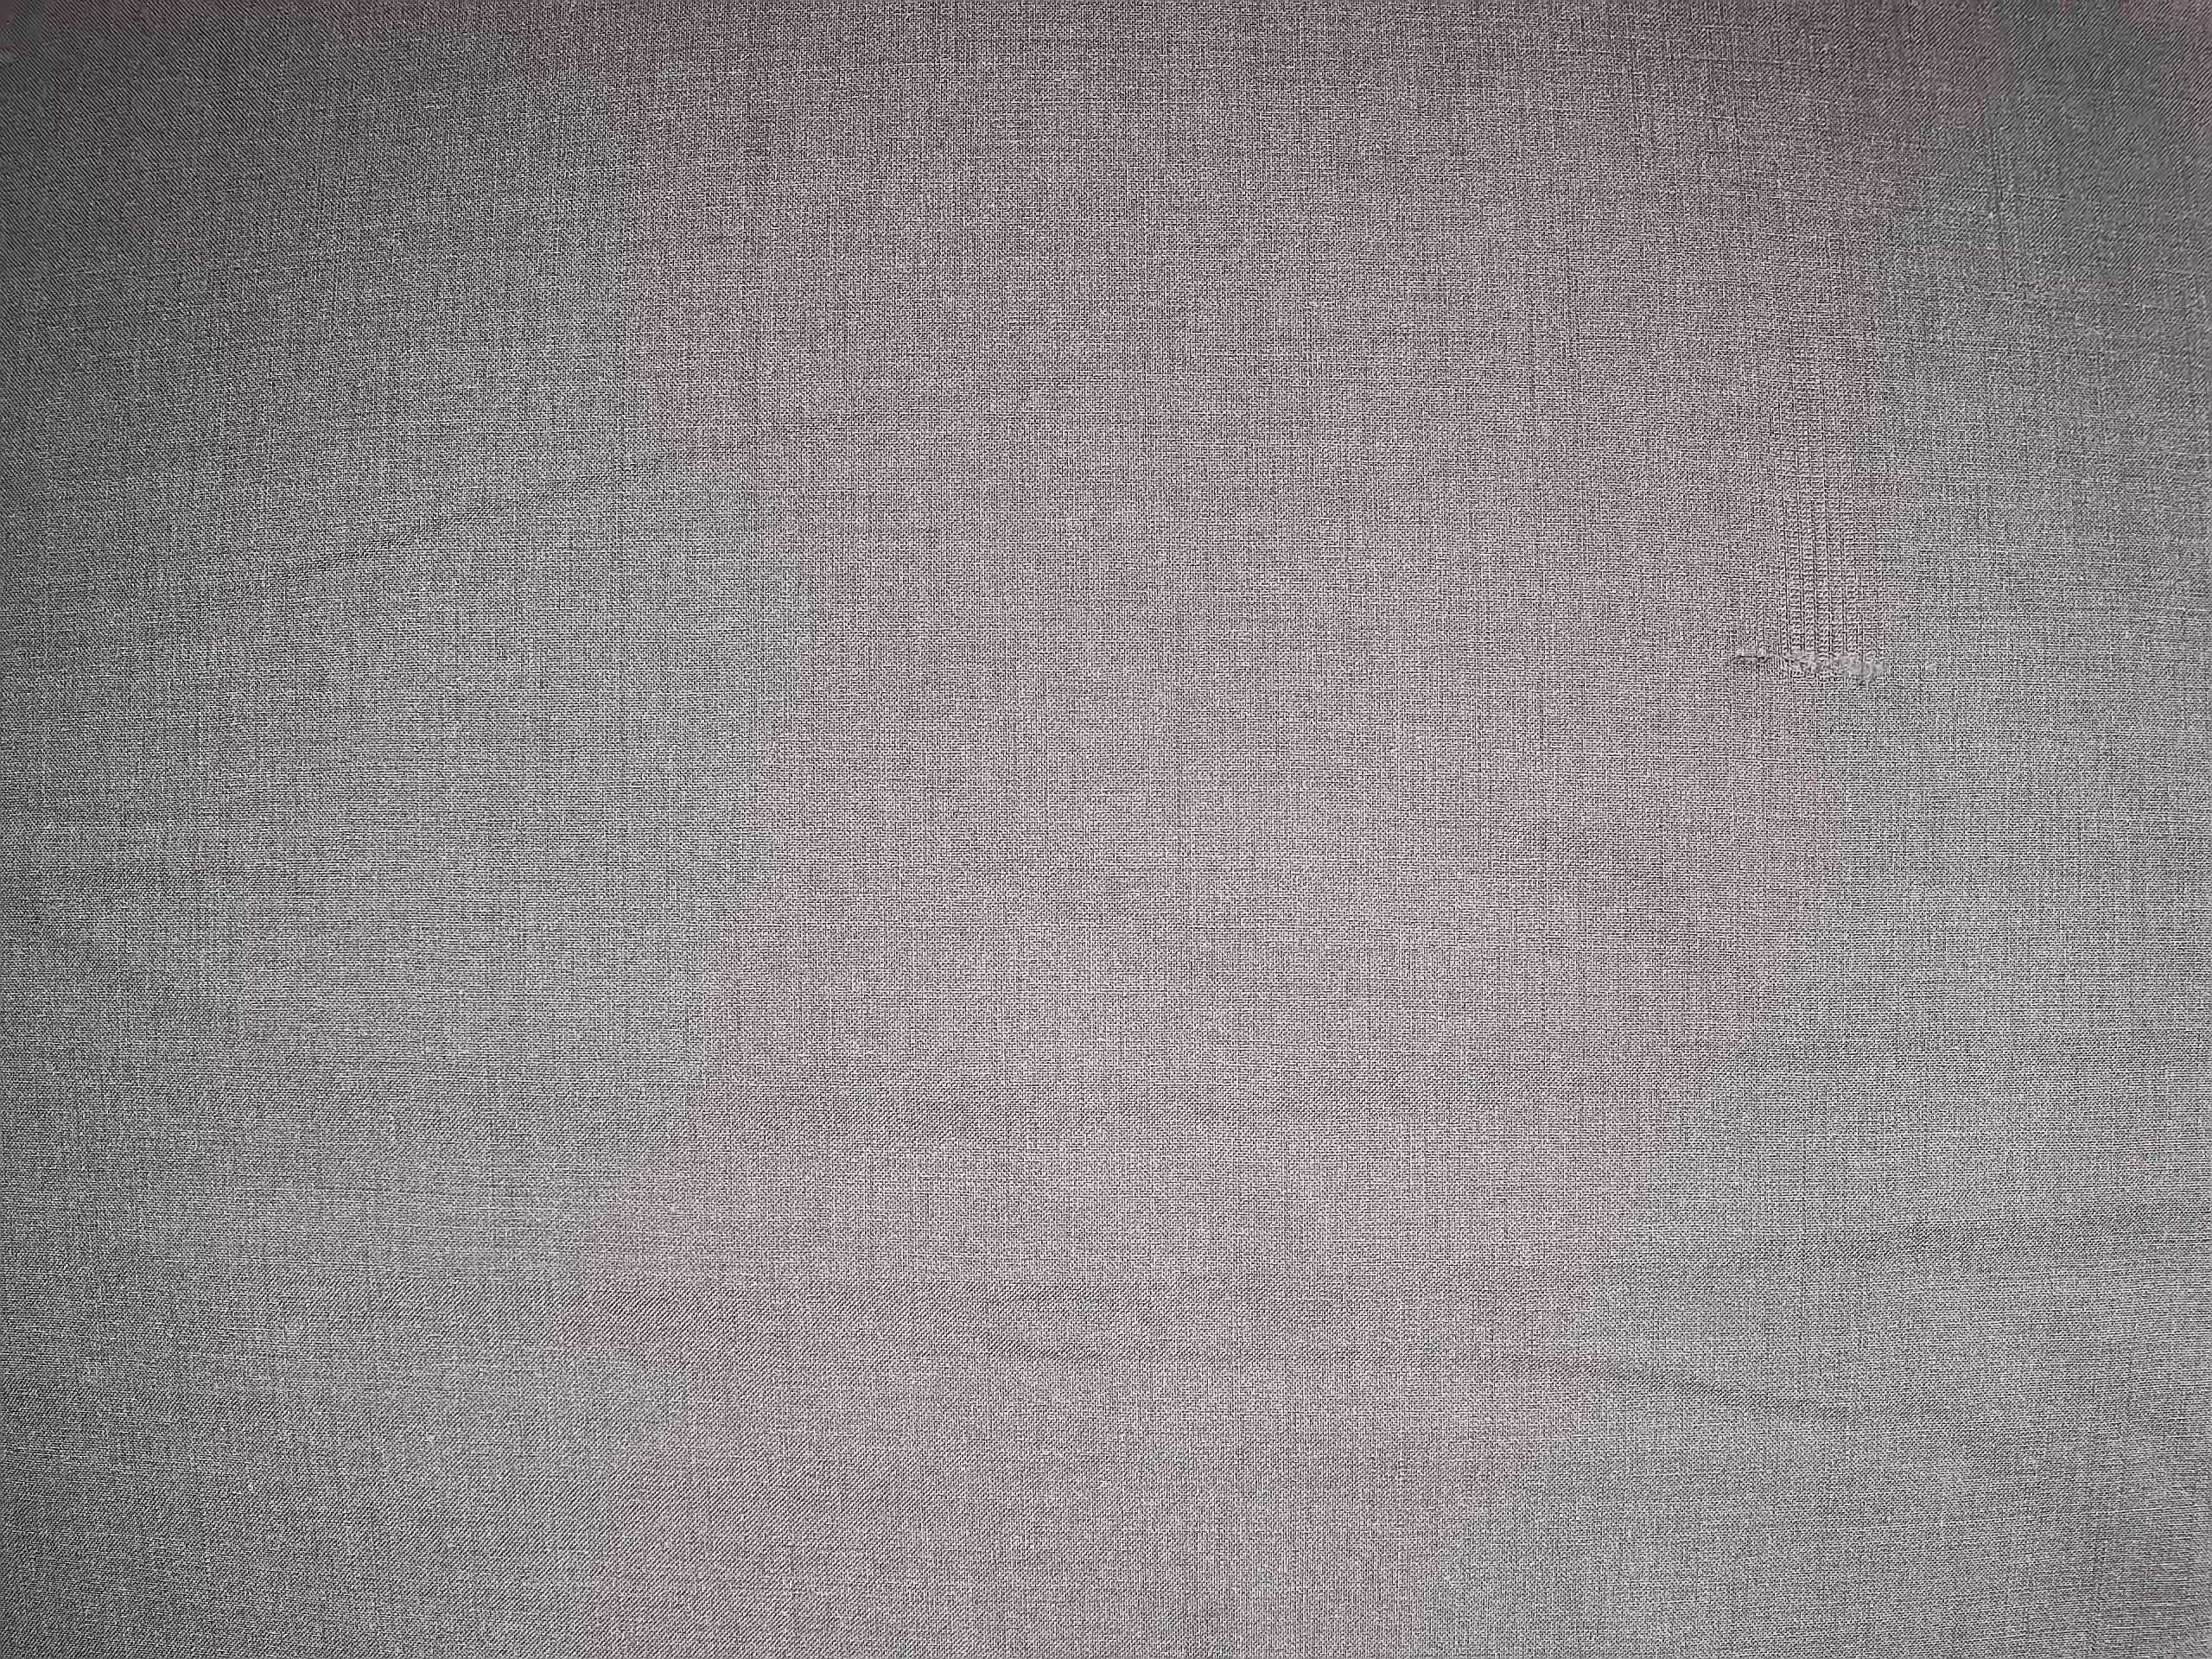hanging-warp: (1703, 603, 1916, 727)
